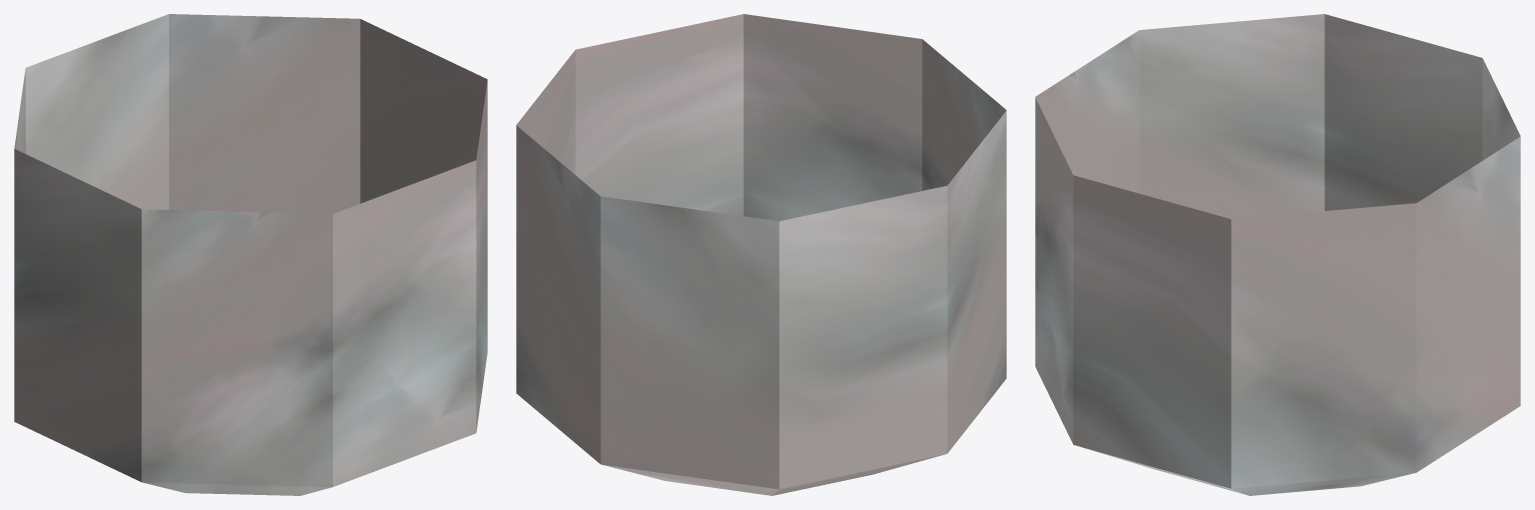
File: TheOctagon_Bottom.gltf
3 views of the same model, side by side, from view 1: azimuth 30°, elevation 25°; view 2: azimuth 150°, elevation 25°; view 3: azimuth 270°, elevation 25° (orthographic).
Visible parts, largest first — view 1: TheOctagon_Bottom; view 2: TheOctagon_Bottom; view 3: TheOctagon_Bottom.
Boxes of the visible parts, <box> form: TheOctagon_Bottom: <box>14,14,487,495</box>; TheOctagon_Bottom: <box>516,14,1006,495</box>; TheOctagon_Bottom: <box>1035,14,1520,495</box>.
Bounding box in the file's own units: 81.92 × 59.14 × 81.92.
1 material, 1 textured.
